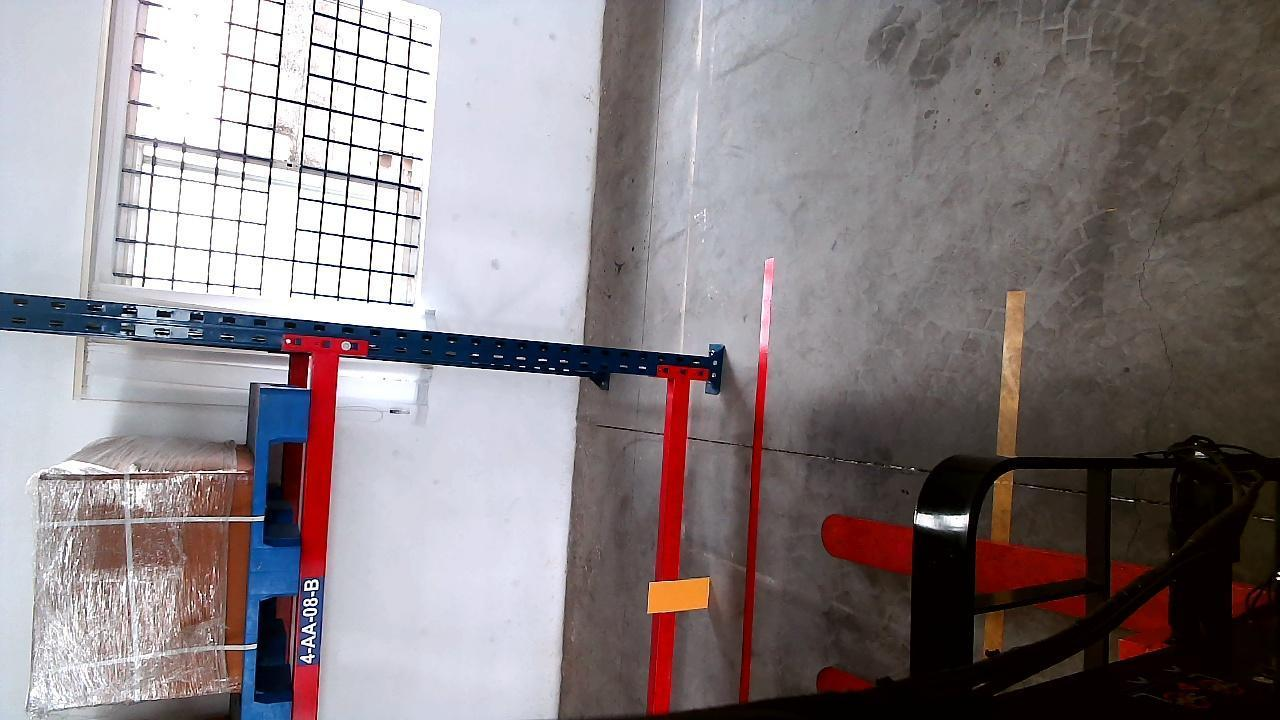h_rack: (294, 350, 341, 720), (654, 377, 687, 709)
orange_strip: (650, 578, 709, 613)
red_line: (735, 253, 777, 713)
small_pallet: (242, 396, 307, 720)
yellow_line: (987, 286, 1023, 656)
